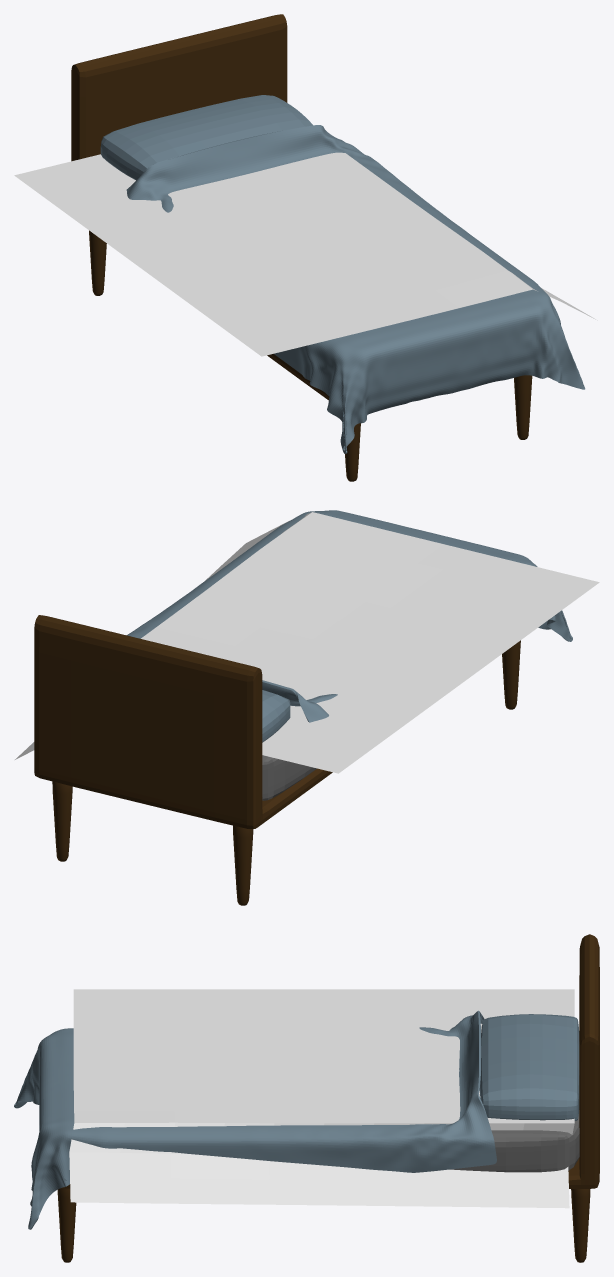
File: Bed.New.fbx
3 views of the same model, one above another, from view 1: azimuth 30°, elevation 25°; view 2: azimuth 150°, elevation 25°; view 3: azimuth 270°, elevation 25° (orthographic). The views are drawn at different scales.
Parts seen in each view (by area): view 1: Plane.001, Plane, Cube, Cube.002, Cube.001; view 2: Plane.001, Cube, Plane, Cube.001, Cube.004, Cube.002; view 3: Plane.001, Plane, Cube.002, Cube, Cube.004, Cube.001.
Part boxes in pixels (bbox=[...]): Plane.001: bbox=[14, 152, 597, 356]; Plane: bbox=[126, 125, 585, 453]; Cube: bbox=[71, 14, 329, 400]; Cube.002: bbox=[100, 95, 312, 180]; Cube.001: bbox=[89, 230, 532, 481]; Plane.001: bbox=[15, 512, 599, 773]; Cube: bbox=[34, 615, 332, 829]; Plane: bbox=[127, 510, 572, 722]; Cube.001: bbox=[52, 640, 520, 905]; Cube.004: bbox=[262, 755, 316, 800]; Cube.002: bbox=[262, 690, 290, 742]; Plane.001: bbox=[69, 989, 574, 1208]; Plane: bbox=[14, 1010, 496, 1229]; Cube.002: bbox=[479, 1014, 579, 1120]; Cube: bbox=[60, 934, 599, 1188]; Cube.004: bbox=[450, 1110, 579, 1172]; Cube.001: bbox=[57, 1188, 590, 1262].
Size of the model in its own units: 263 by 173 by 392.
